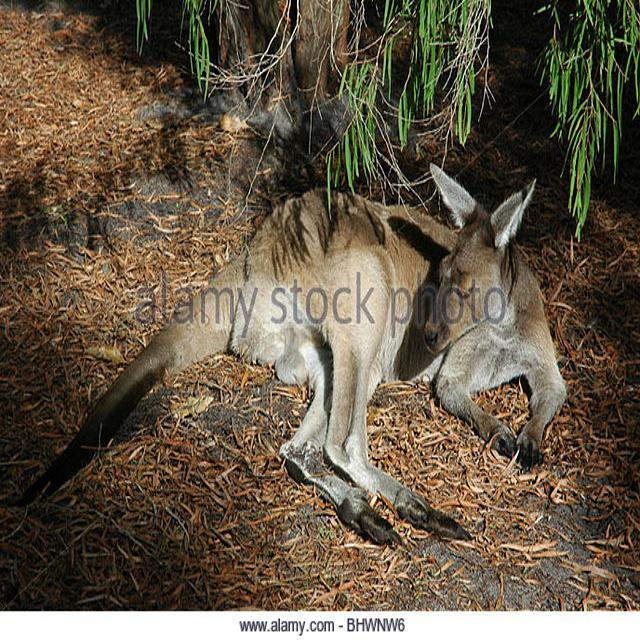kangaroo: (219, 174, 556, 541)
